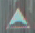Speed Breaker ahead: (4, 5, 32, 30)
